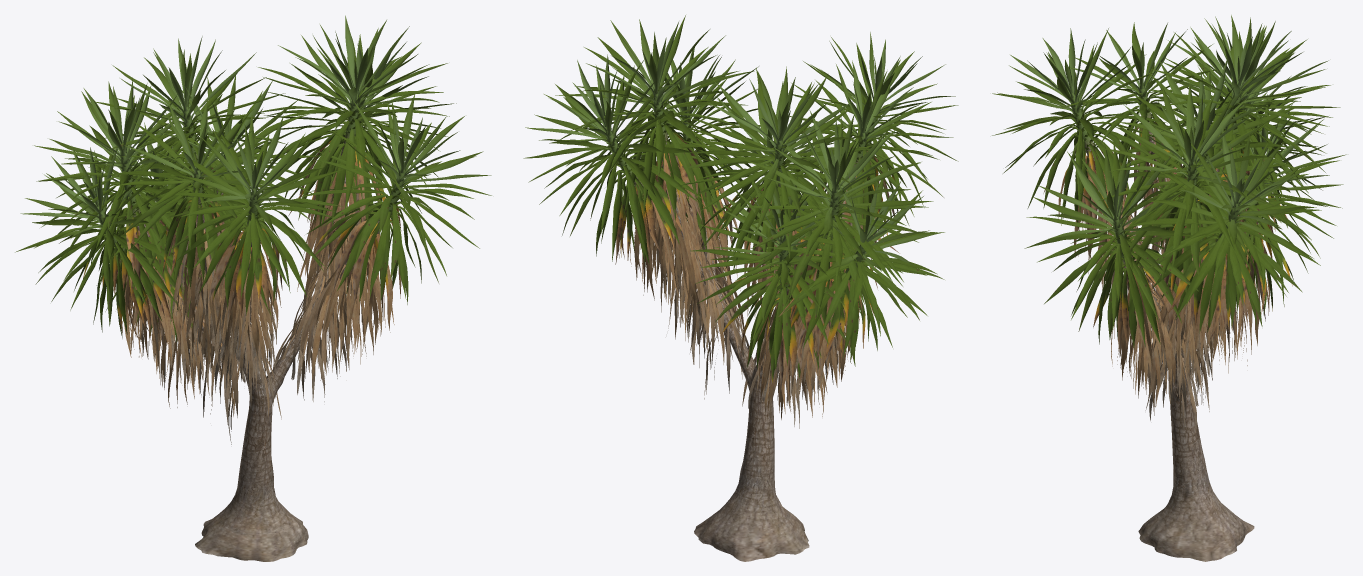
File: Yucca elephantipes HD_Standard no flower mat 50_LOD0.fbx
The picture shows the model from 3 angles, left to right: view 1: azimuth 30°, elevation 25°; view 2: azimuth 150°, elevation 25°; view 3: azimuth 270°, elevation 25°; orthographic projection.
Visible parts, largest first — view 1: Yucca_elephantipes_HD; view 2: Yucca_elephantipes_HD; view 3: Yucca_elephantipes_HD.
Part boxes in pixels (x1,y1,x2,y2): Yucca_elephantipes_HD: [15, 15, 491, 561]; Yucca_elephantipes_HD: [523, 15, 958, 561]; Yucca_elephantipes_HD: [992, 15, 1346, 561].
Size of the model in its own units: 2.46 by 2.81 by 1.88.
Materials: 9 (9 with a texture image).
